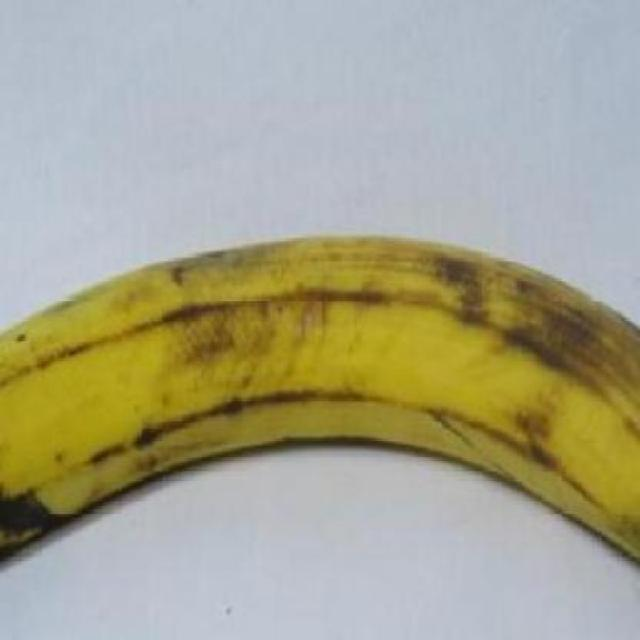Overripe: (0, 208, 640, 582)
